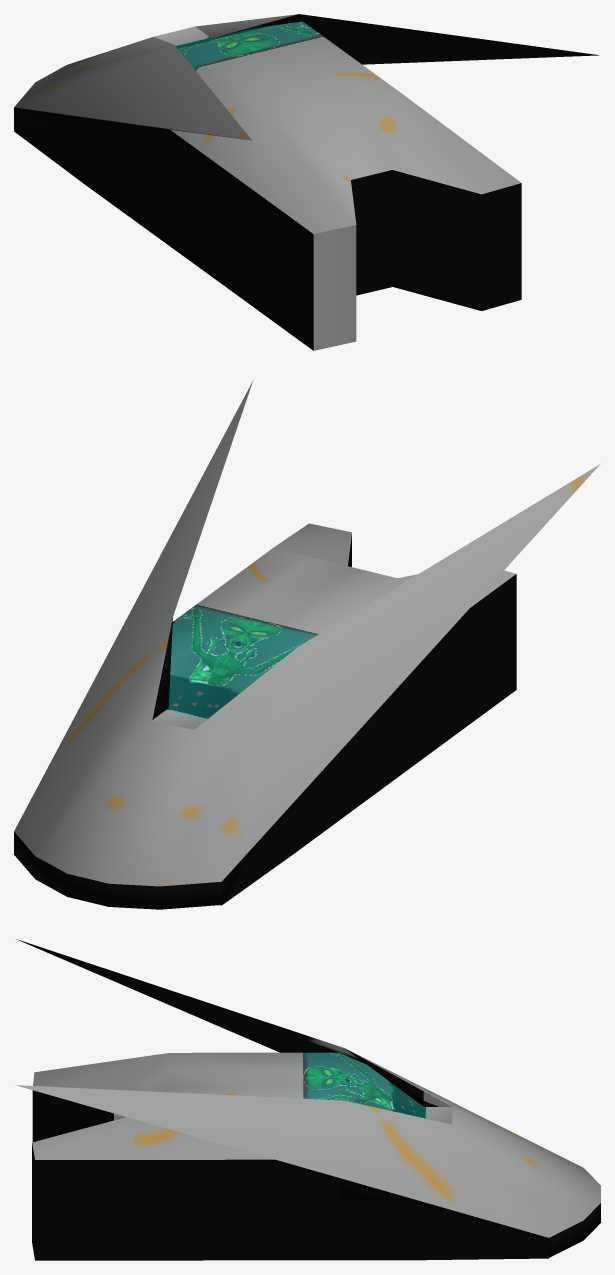
Rendered from alienShip2.FBX.
3 renders of one model, top to bottom at view 1: azimuth 30°, elevation 25°; view 2: azimuth 150°, elevation 25°; view 3: azimuth 270°, elevation 25°, orthographic. The views are drawn at different scales.
Visible parts, largest first — view 1: Box001; view 2: Box001; view 3: Box001.
Part boxes in pixels (x1,y1,x2,y2): Box001: [14, 14, 598, 350]; Box001: [14, 380, 600, 909]; Box001: [15, 939, 600, 1260].
Size of the model in its own units: 43.86 by 74.15 by 28.43.
Materials: 1 (1 with a texture image).
